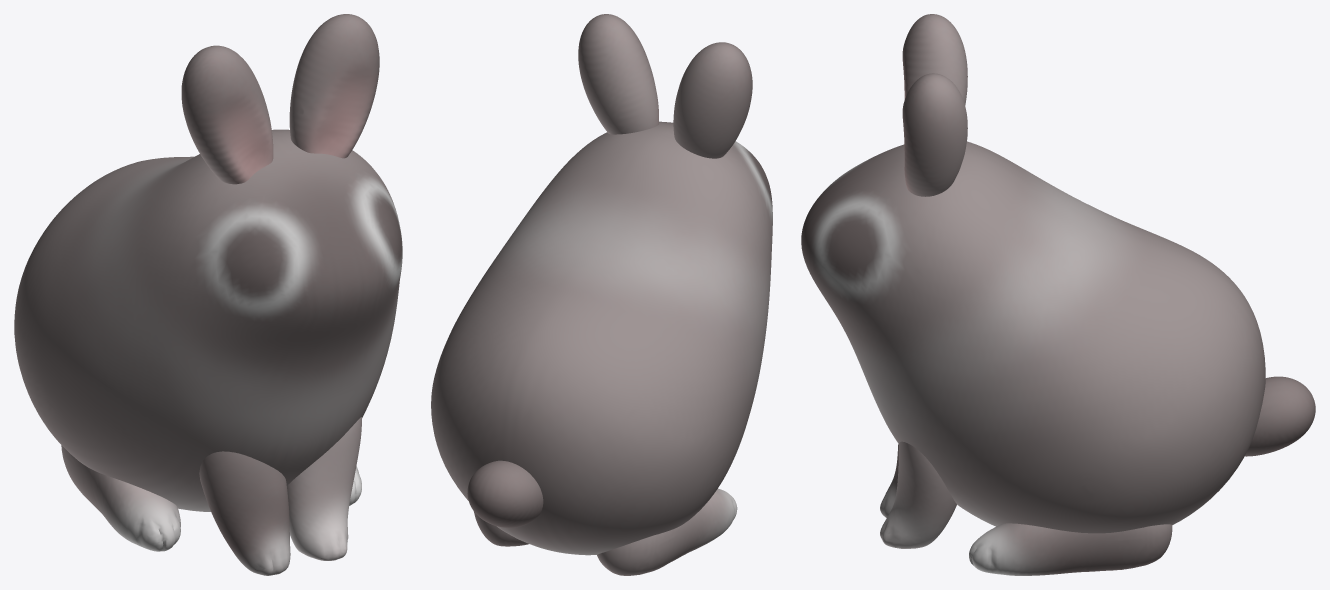
File: bunny.glb
The picture shows the model from 3 angles, left to right: view 1: azimuth 30°, elevation 25°; view 2: azimuth 150°, elevation 25°; view 3: azimuth 270°, elevation 25°; orthographic projection. The views are drawn at different scales.
Visible parts, largest first — view 1: Object_12, Object_5, Object_7, Object_9; view 2: Object_12, Object_5, Object_9, Object_3, Object_10; view 3: Object_12, Object_5, Object_10, Object_7, Object_3.
Part boxes in pixels (box(x1,y1,x2,y2)): Object_12: box(14, 129, 402, 511); Object_5: box(181, 14, 379, 184); Object_7: box(199, 417, 361, 575); Object_9: box(61, 445, 180, 551); Object_12: box(431, 121, 772, 555); Object_5: box(578, 14, 752, 158); Object_9: box(597, 488, 737, 575); Object_3: box(467, 460, 543, 527); Object_10: box(474, 512, 528, 546); Object_12: box(801, 141, 1265, 533); Object_5: box(902, 14, 967, 196); Object_10: box(969, 523, 1172, 575); Object_7: box(880, 441, 956, 548); Object_3: box(1245, 376, 1315, 456).
Size of the model in its own units: 1.85 by 2.99 by 2.88.
